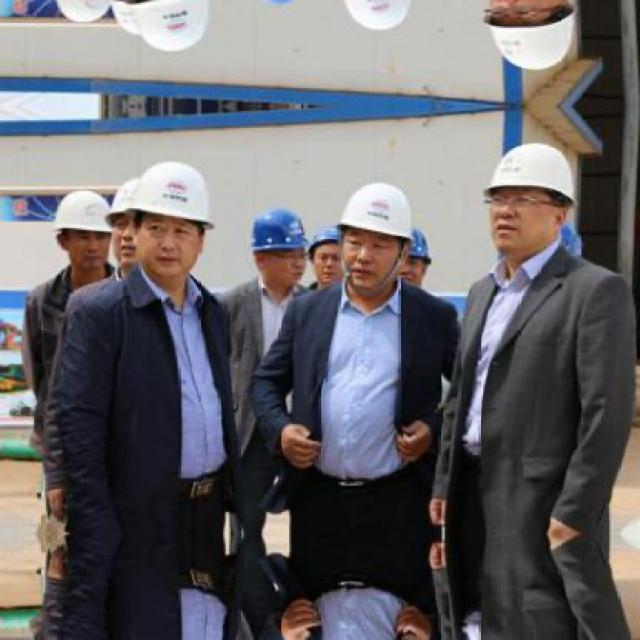helmet: (476, 133, 578, 259), (129, 152, 220, 280), (334, 171, 416, 292), (477, 0, 580, 79), (240, 205, 306, 293), (127, 0, 220, 59), (55, 188, 108, 281), (109, 168, 143, 273), (332, 0, 416, 40), (397, 222, 434, 293), (109, 0, 145, 43), (56, 0, 110, 23)
